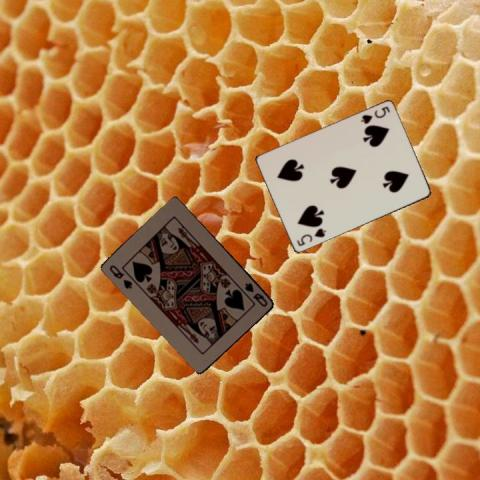5s: (294, 225, 328, 248), (358, 104, 391, 126)
Qs: (242, 279, 269, 309), (107, 261, 134, 291)
